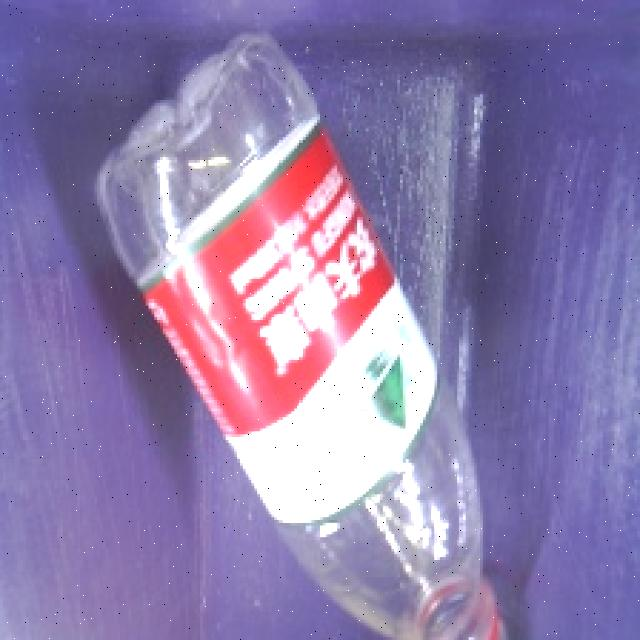plastic: (75, 21, 539, 640)
